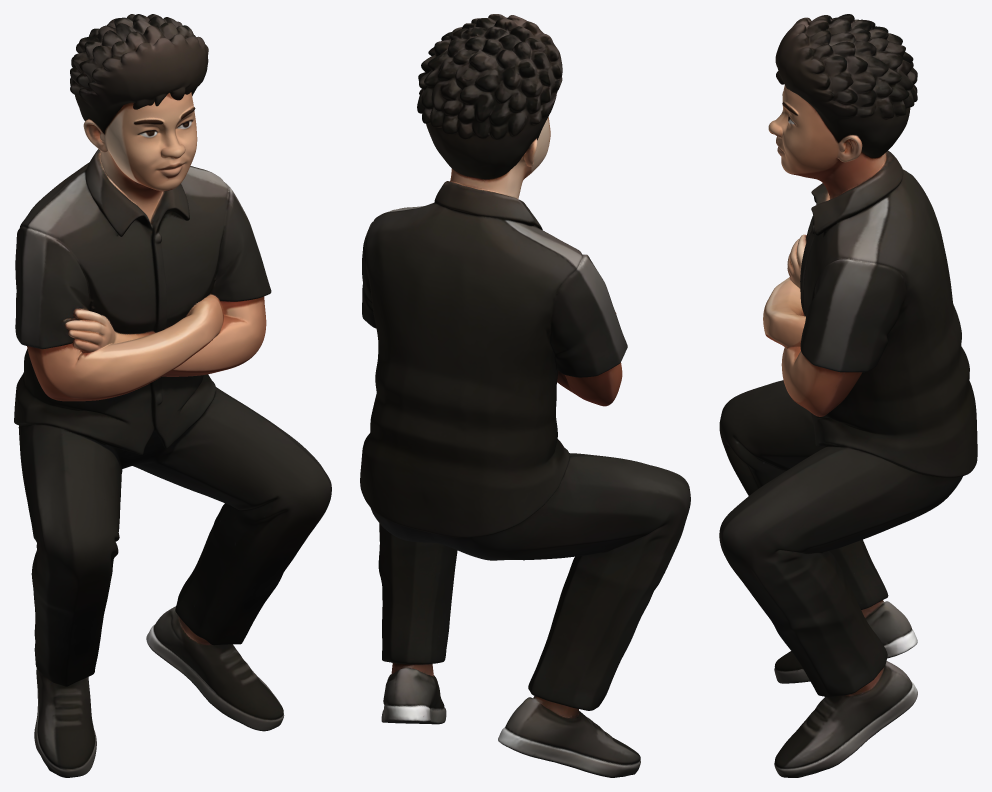
File: Achmad3D.fbx
3 views of the same model, side by side, from view 1: azimuth 30°, elevation 25°; view 2: azimuth 150°, elevation 25°; view 3: azimuth 270°, elevation 25° (orthographic). The views are drawn at different scales.
Visible parts, largest first — view 1: tripo_node_c674b585; view 2: tripo_node_c674b585; view 3: tripo_node_c674b585.
Part boxes in pixels (box(x1,y1,x2,y2)): tripo_node_c674b585: box(14, 14, 331, 777); tripo_node_c674b585: box(360, 14, 690, 777); tripo_node_c674b585: box(719, 14, 977, 777).
Size of the model in its own units: 0.4128 by 1 by 0.3321.
